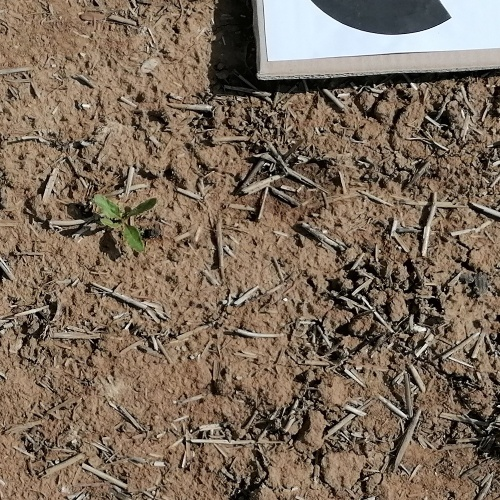beet: (97, 193, 159, 253)
